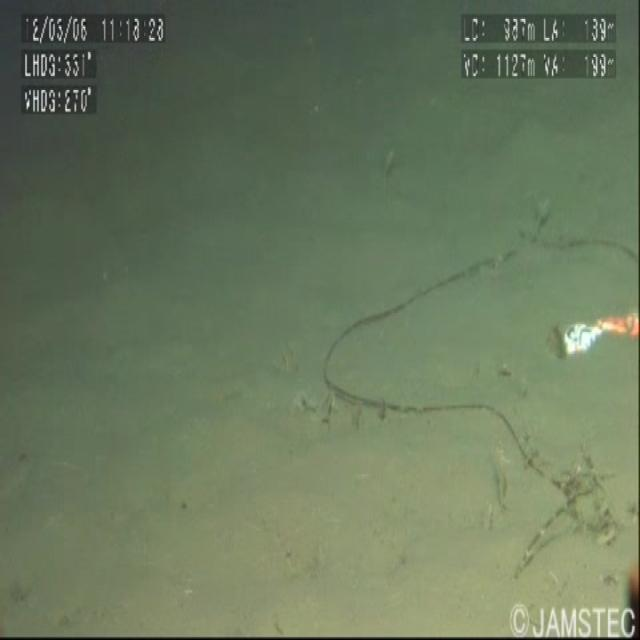Litter: (548, 302, 640, 392)
